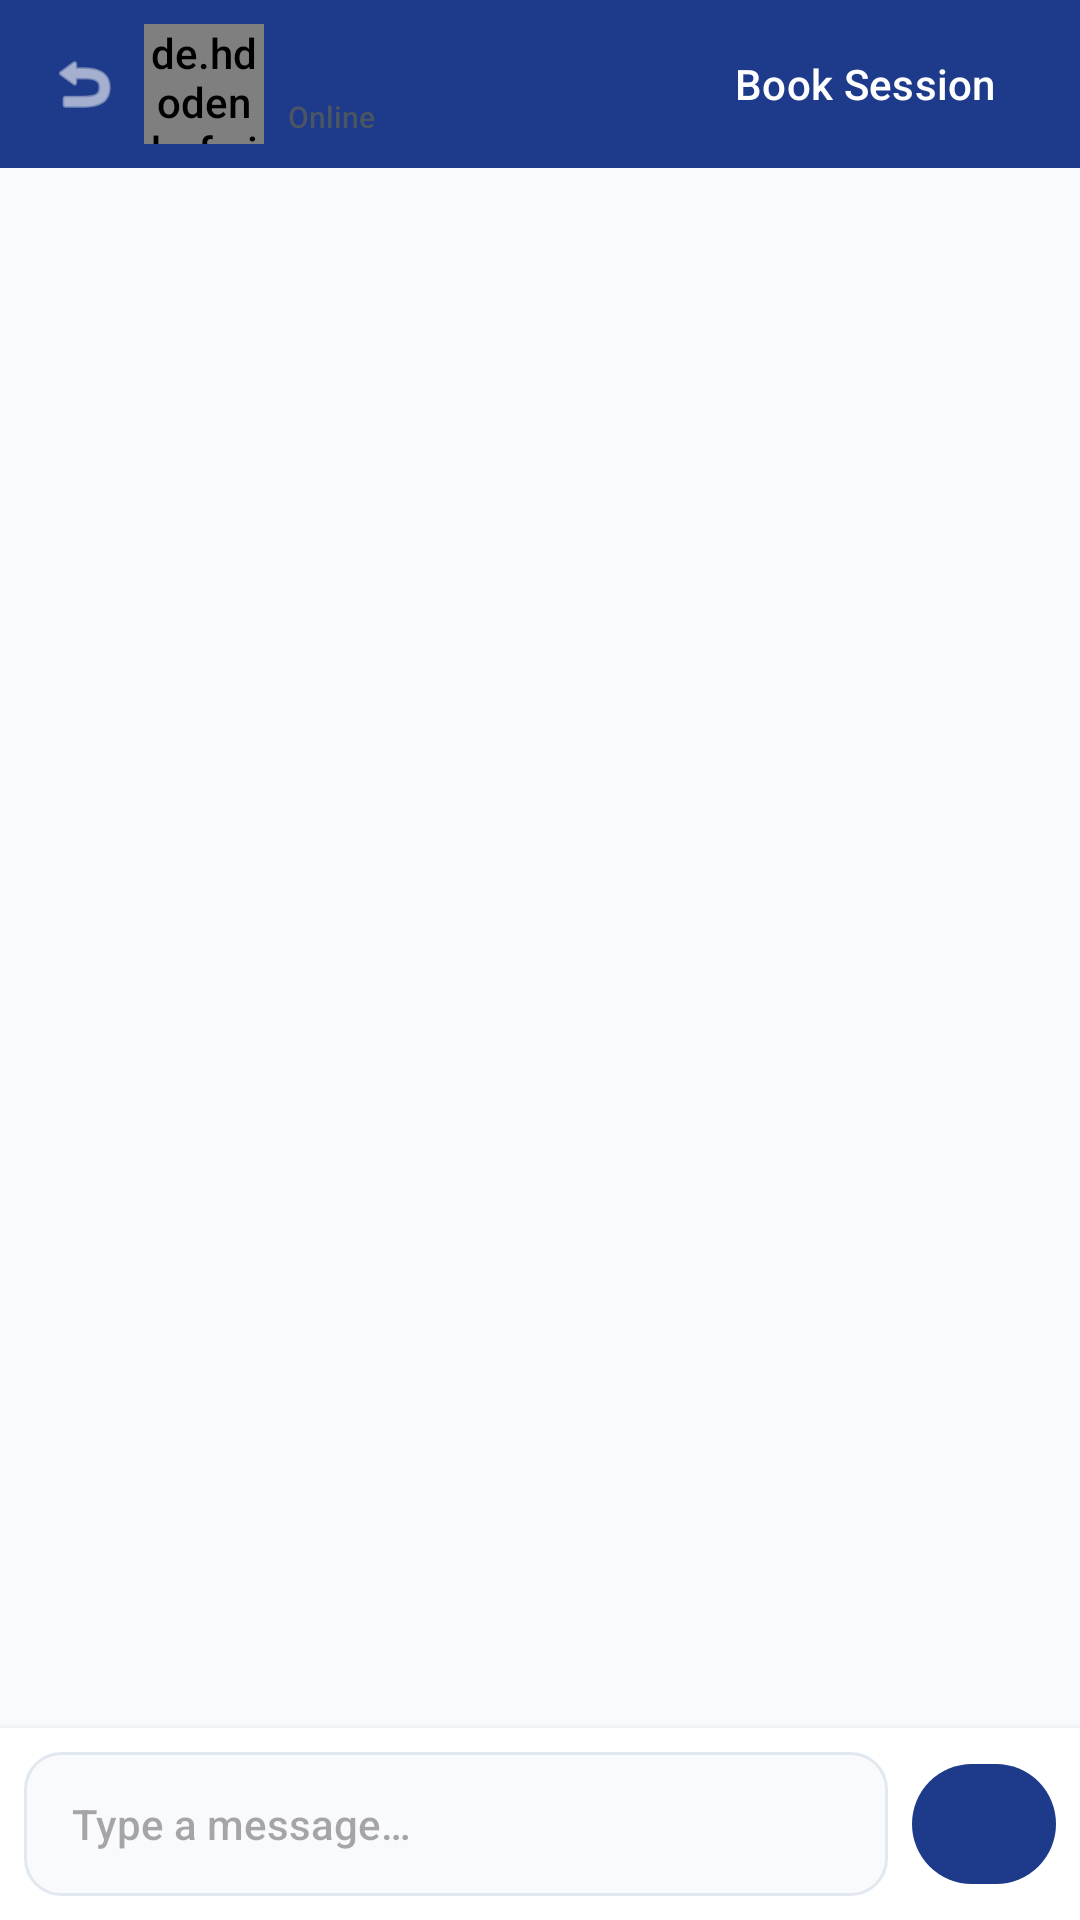

Icon bounding boxes for this 1080px x 1920px phone screenshot, format BBox(x1, y1, x2, y2):
Back: BBox(59, 61, 111, 108)
